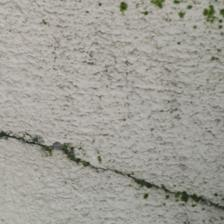Crack: (2, 65, 222, 147)
